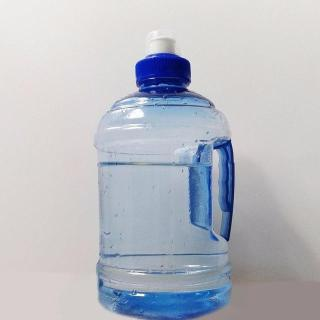Plastic-bottle: (85, 19, 249, 320)
